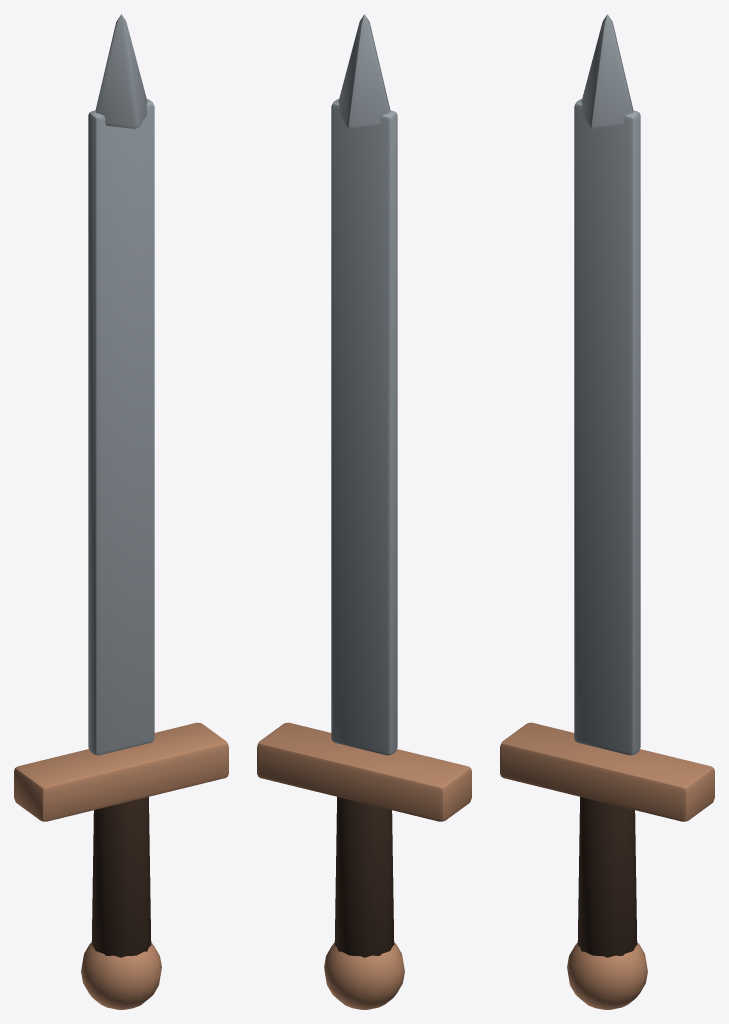
Rendered from weapon_short_sword.glb.
3 views of the same model, side by side, from view 1: azimuth 30°, elevation 25°; view 2: azimuth 150°, elevation 25°; view 3: azimuth 330°, elevation 25° (orthographic).
Visible parts, largest first — view 1: ShortSword; view 2: ShortSword; view 3: ShortSword.
Part boxes in pixels (box(x1,y1,x2,y2)): ShortSword: box(14, 14, 228, 1009); ShortSword: box(257, 14, 471, 1009); ShortSword: box(500, 14, 714, 1009).
Size of the model in its own units: 0.16 by 0.805 by 0.06.
